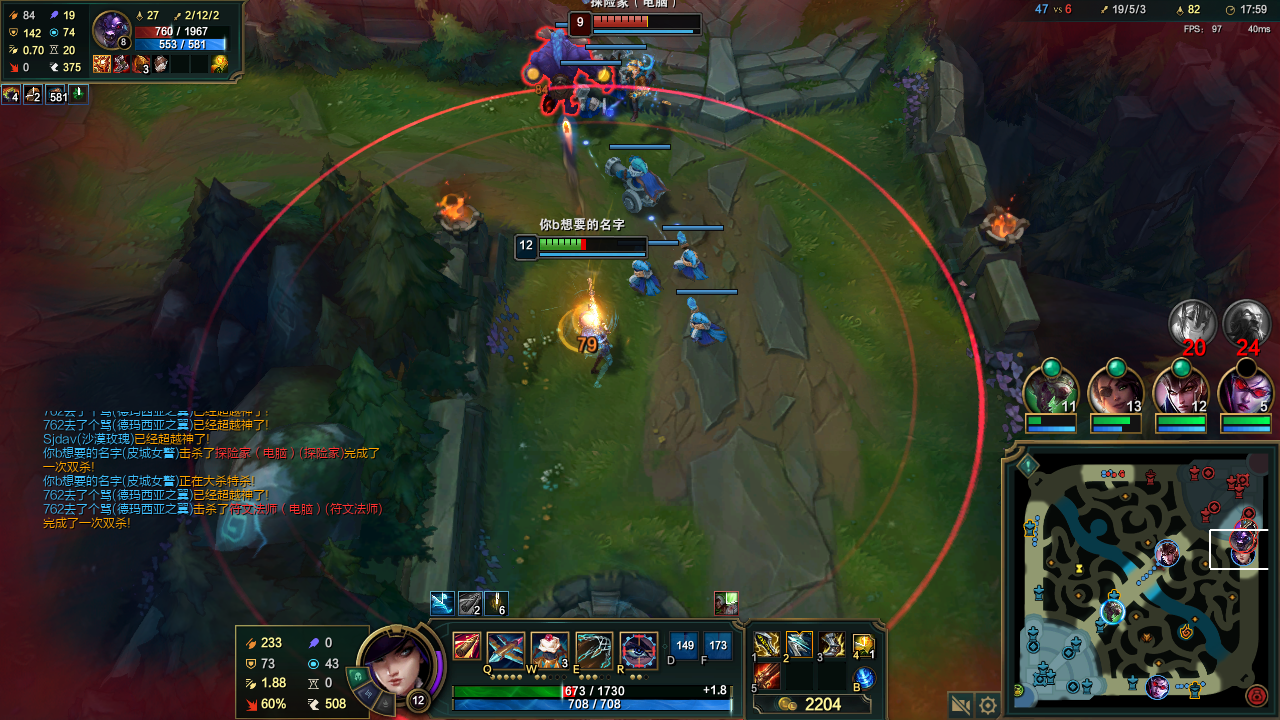DFYX: (588, 17, 689, 31)
WFXB: (617, 161, 675, 211), (682, 295, 721, 345), (666, 240, 712, 281), (627, 258, 665, 294), (577, 90, 608, 122)
